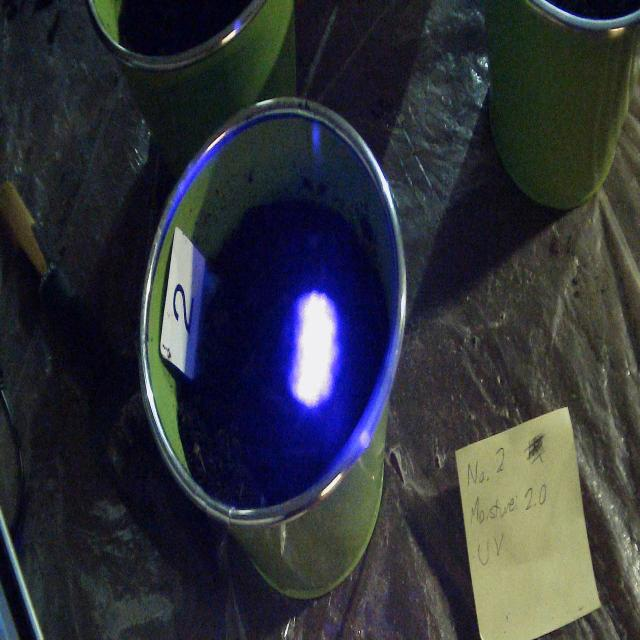soil-moisture-2.0: (291, 291, 339, 409)
